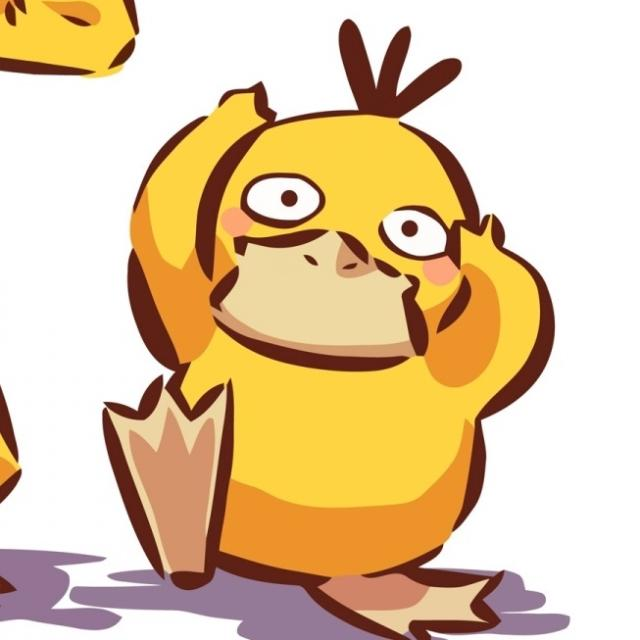Psyduck: (121, 100, 547, 614)
